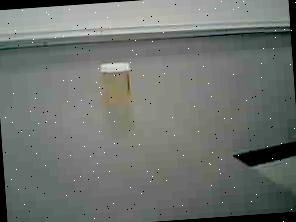Bottle B: (90, 57, 144, 111)
